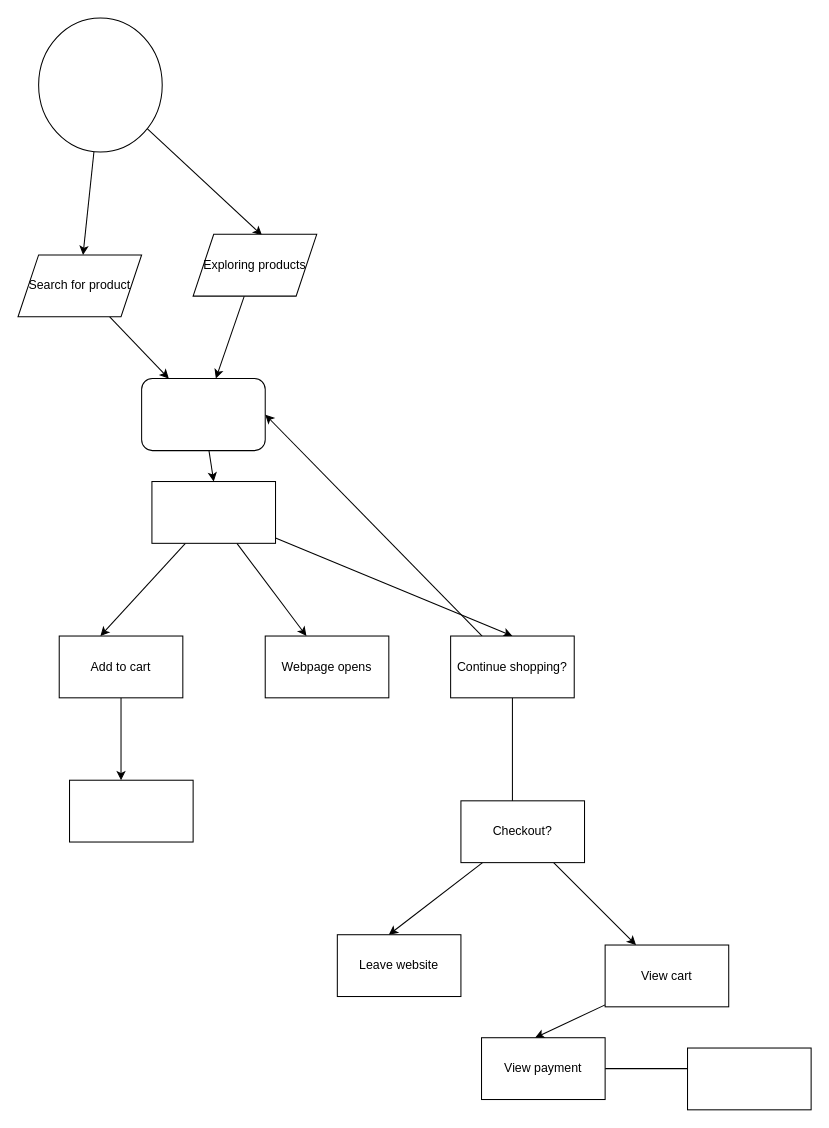
Some shapes in this 829 by 1128 pixel diagram are drawn without their labels. The box of each missing label's shape, as (x1, y1, x2, y2) in pixels:
Confirmation: (68, 779, 193, 842)
Look over products: (141, 377, 265, 451)
Order confirmation/email: (686, 1047, 811, 1110)
Start: (38, 17, 162, 152)
View specifc product: (151, 480, 276, 543)
